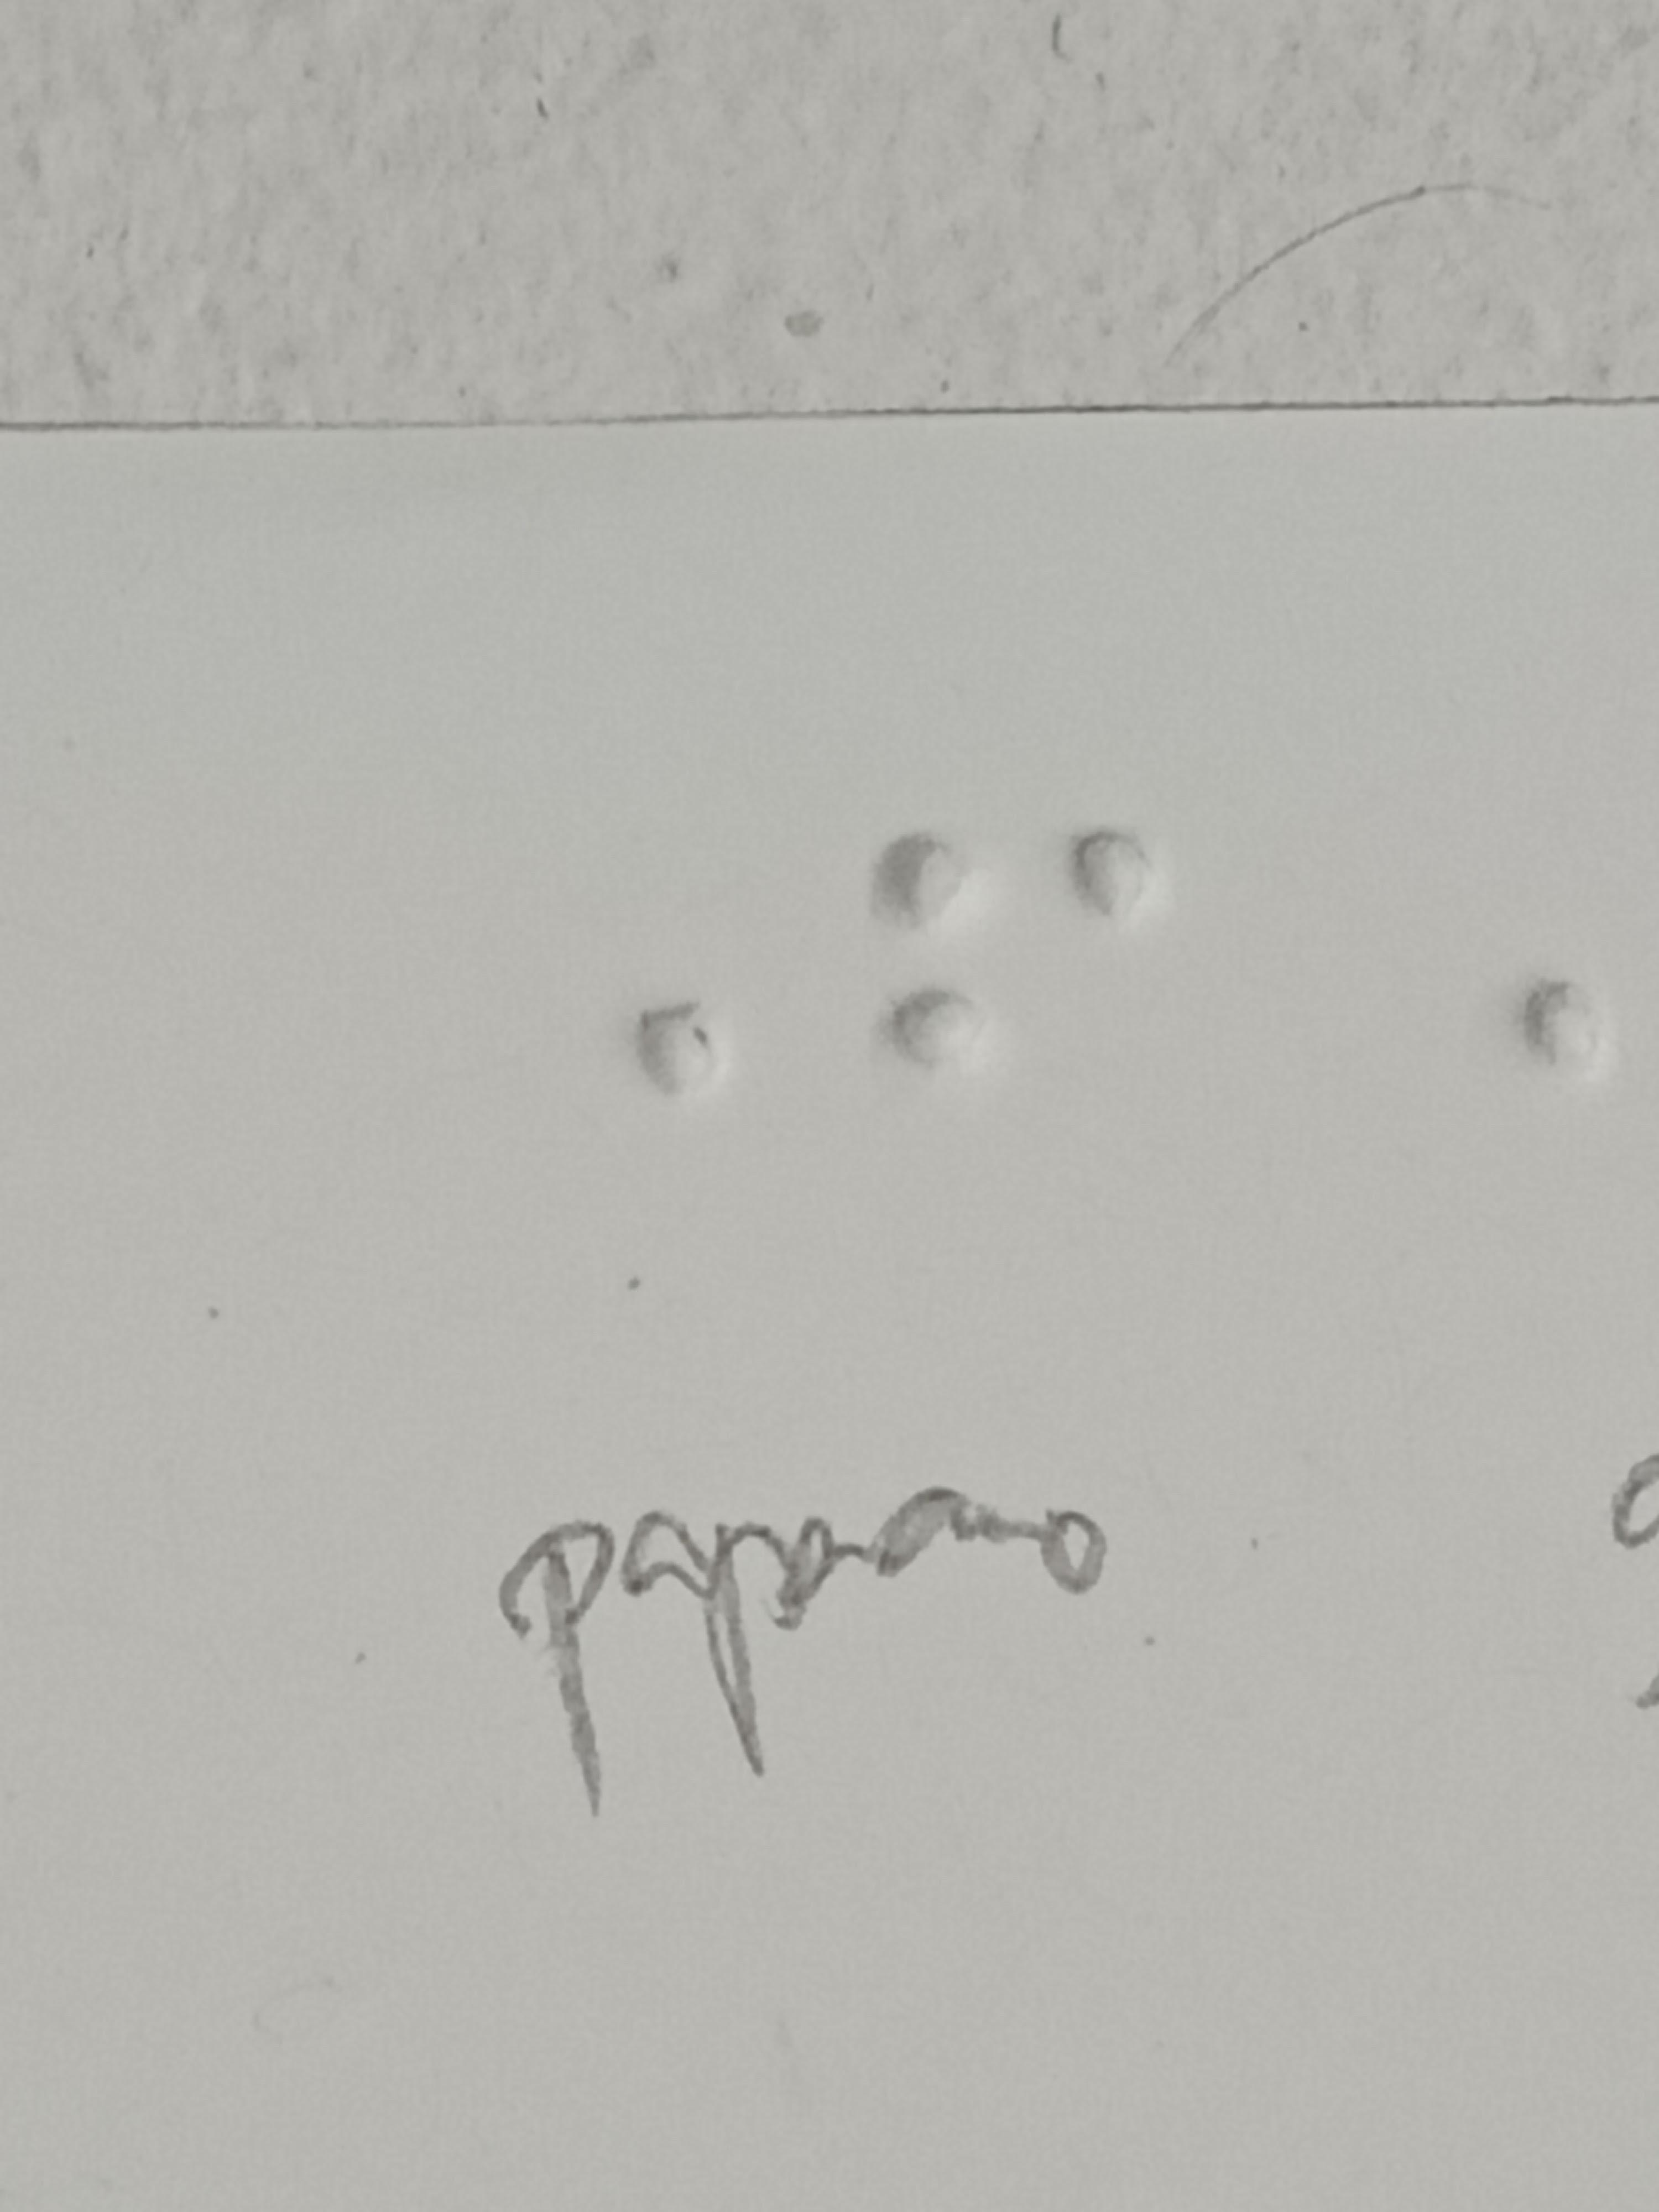dot_5: (450, 815, 730, 1247)
two_cell_alphabet_papaano: (875, 820, 1155, 1251)
